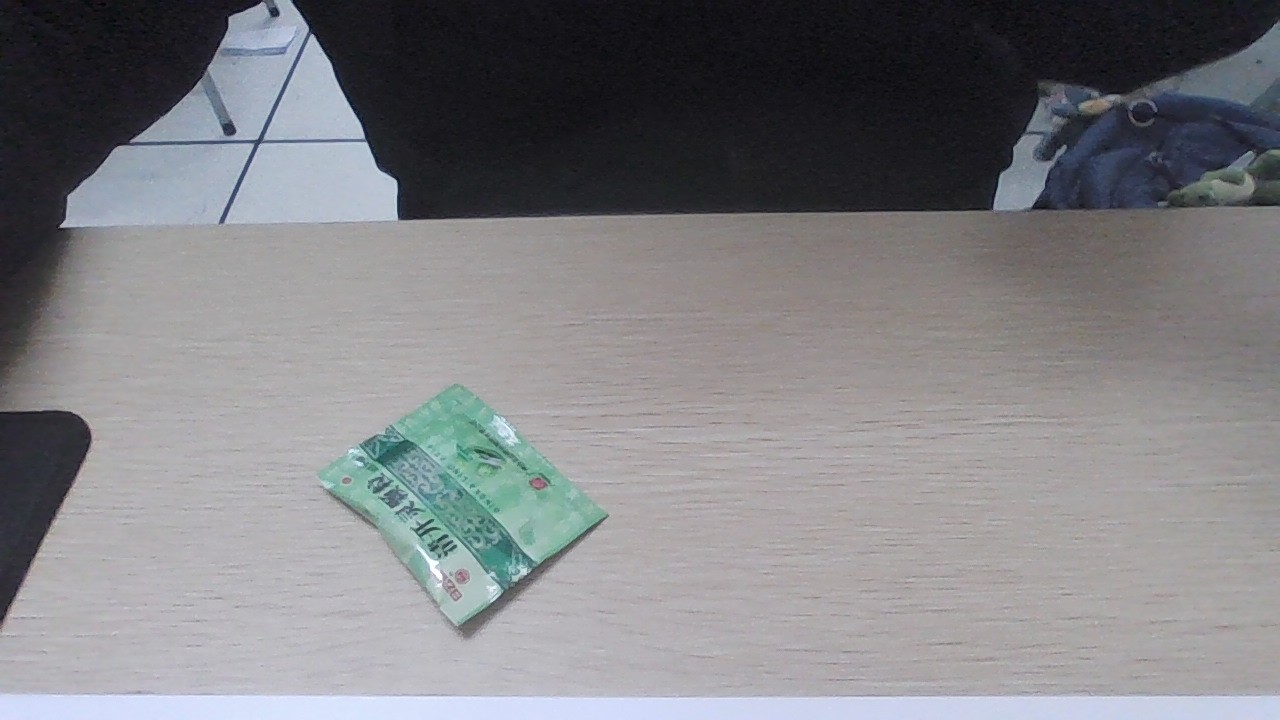YH-green medicine: (320, 386, 588, 602)
